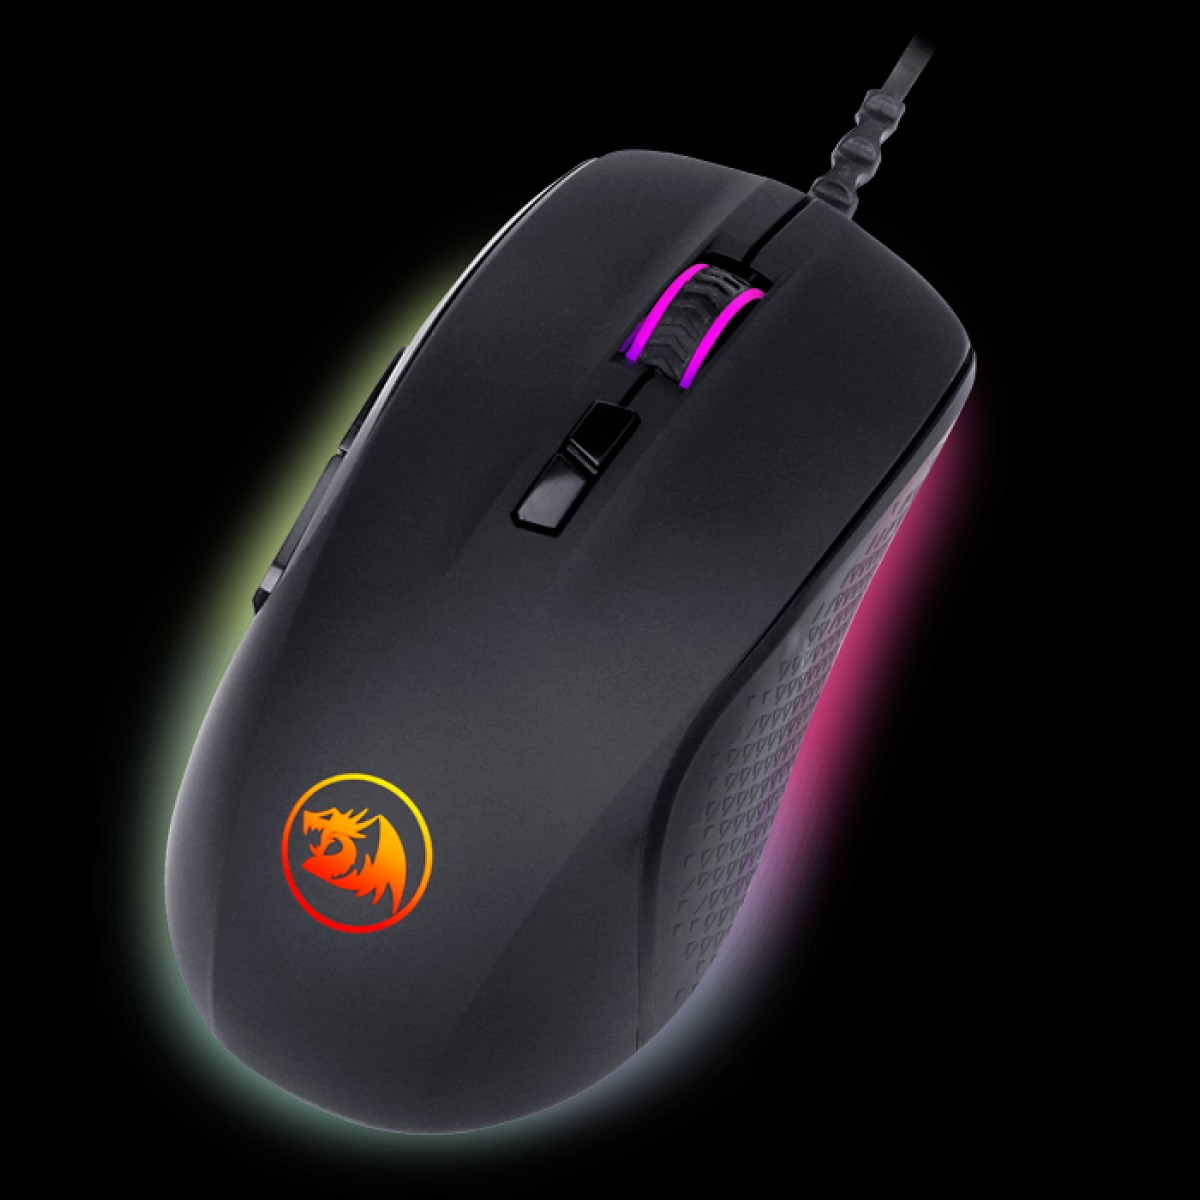mouse: (163, 138, 982, 1158)
